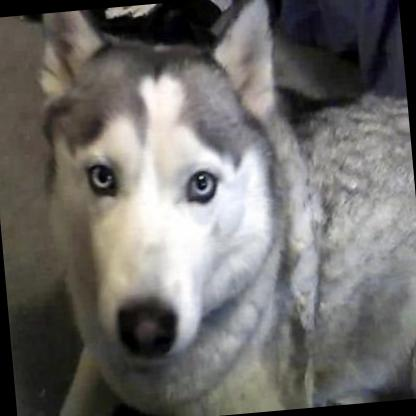Eskimo_dog: (30, 0, 416, 416)
